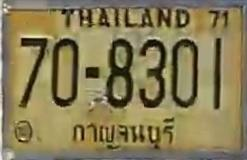0: (50, 36, 78, 106), (170, 38, 198, 107)
1: (212, 36, 221, 109)
3: (138, 38, 165, 107)
7: (19, 36, 48, 108)
8: (105, 38, 133, 106)
KRI: (65, 113, 182, 150)
